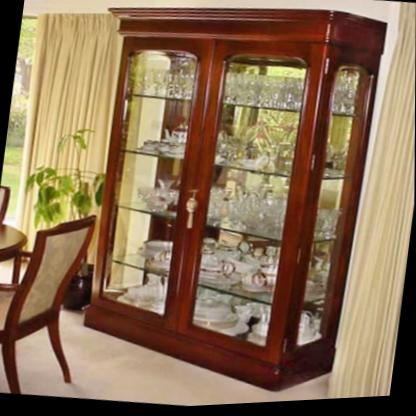Cupboard: (82, 10, 387, 395)
Curtains: (327, 6, 416, 403), (17, 14, 120, 245)
